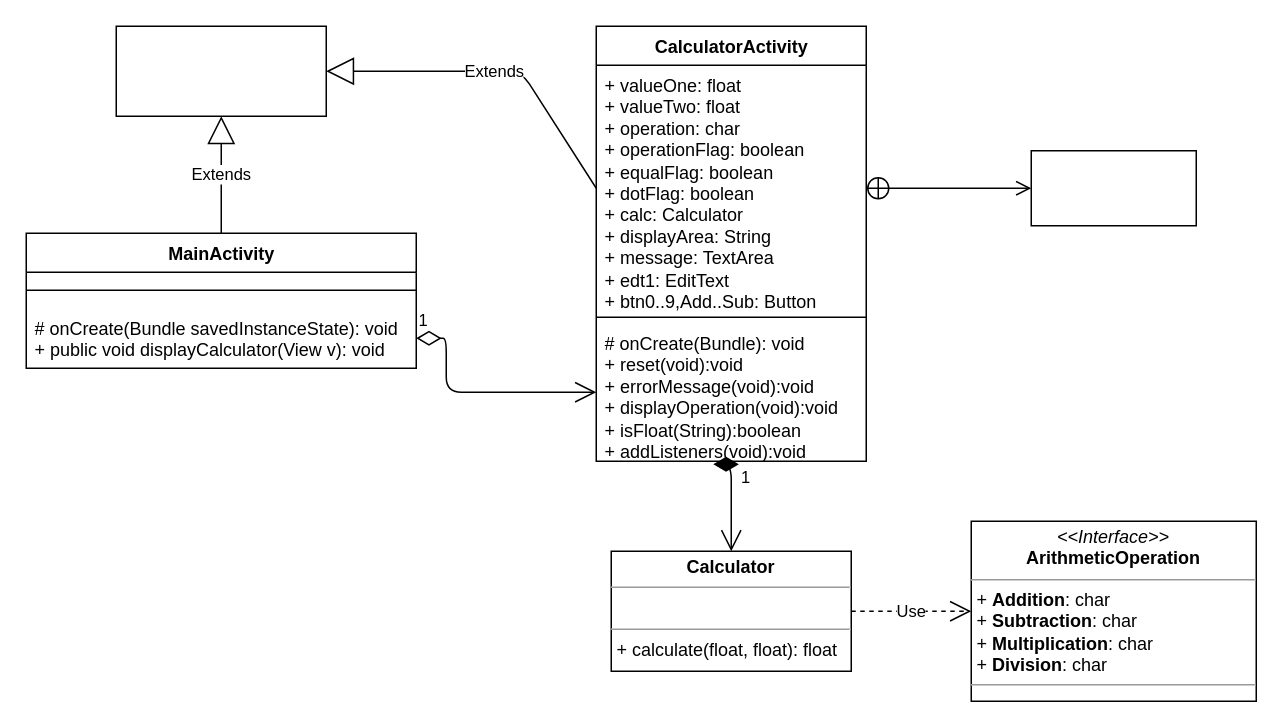
Image size: 1283x728. Some labels were removed from this diagram. The shapes that lost their labels are listed below. From the top down, each one's centre as x and y in pixels, then its label:
point (220, 70): Activity
point (1113, 187): «anonymous» ActivityListner
